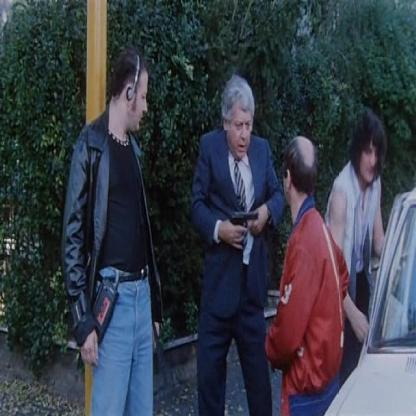gun: (228, 203, 272, 234)
